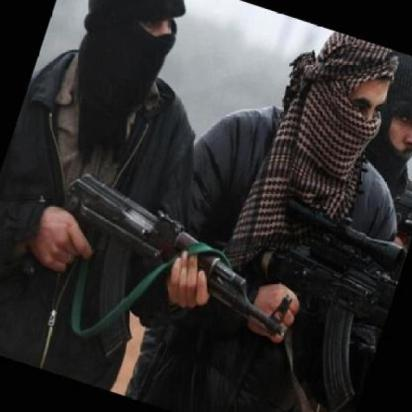Gun: (60, 180, 286, 330)
